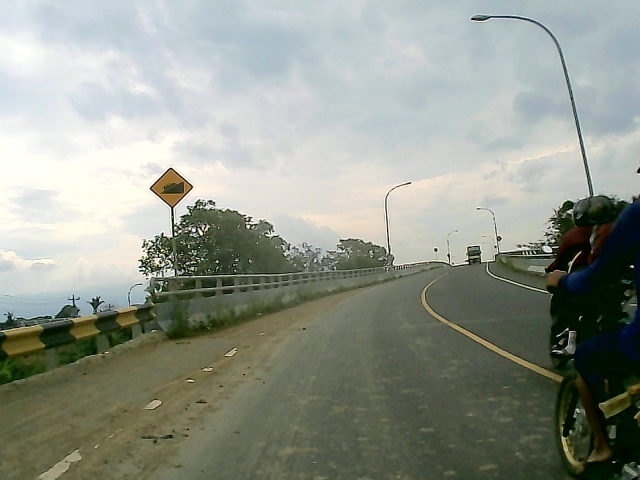Jalanan menanjak: (147, 166, 196, 209)
